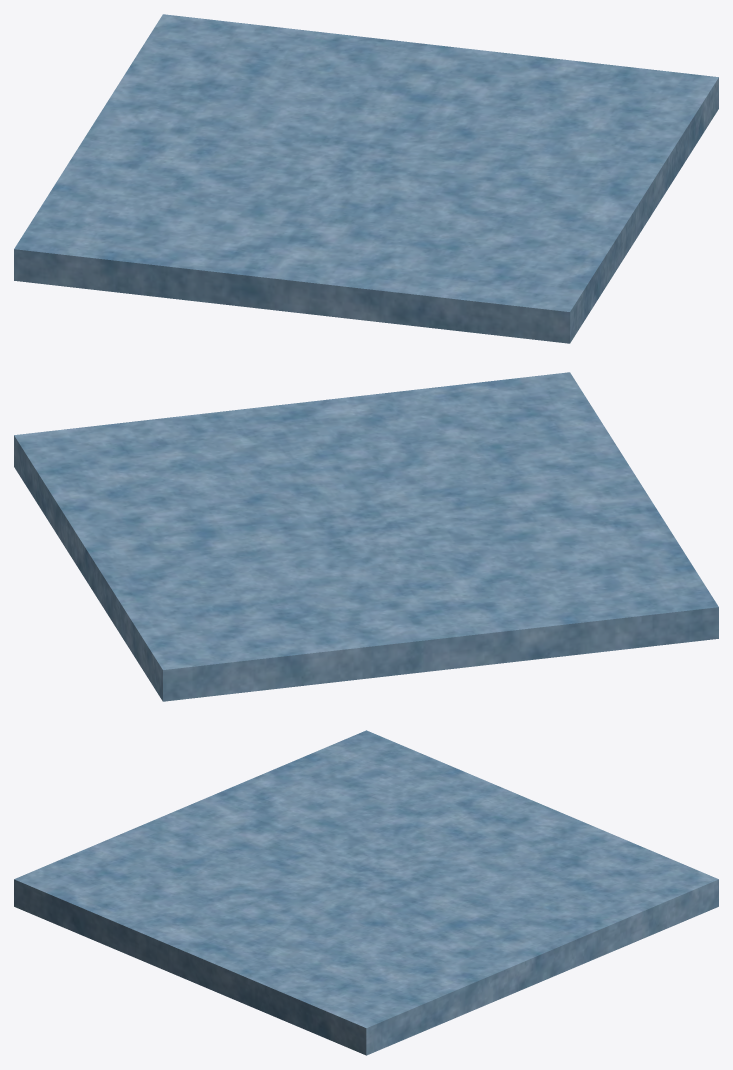
Rendered from river_flat.glb.
3 views of the same model, one above another, from view 1: azimuth 30°, elevation 25°; view 2: azimuth 150°, elevation 25°; view 3: azimuth 270°, elevation 25° (orthographic). The views are drawn at different scales.
Visible parts, largest first — view 1: dilek; view 2: dilek; view 3: dilek.
Part boxes in pixels (<box>): dilek: <box>14,14,718,343</box>; dilek: <box>14,372,718,701</box>; dilek: <box>14,730,718,1055</box>.
Bounding box in the file's own units: 2.45 × 0.105 × 2.45.
1 material, 1 textured.
